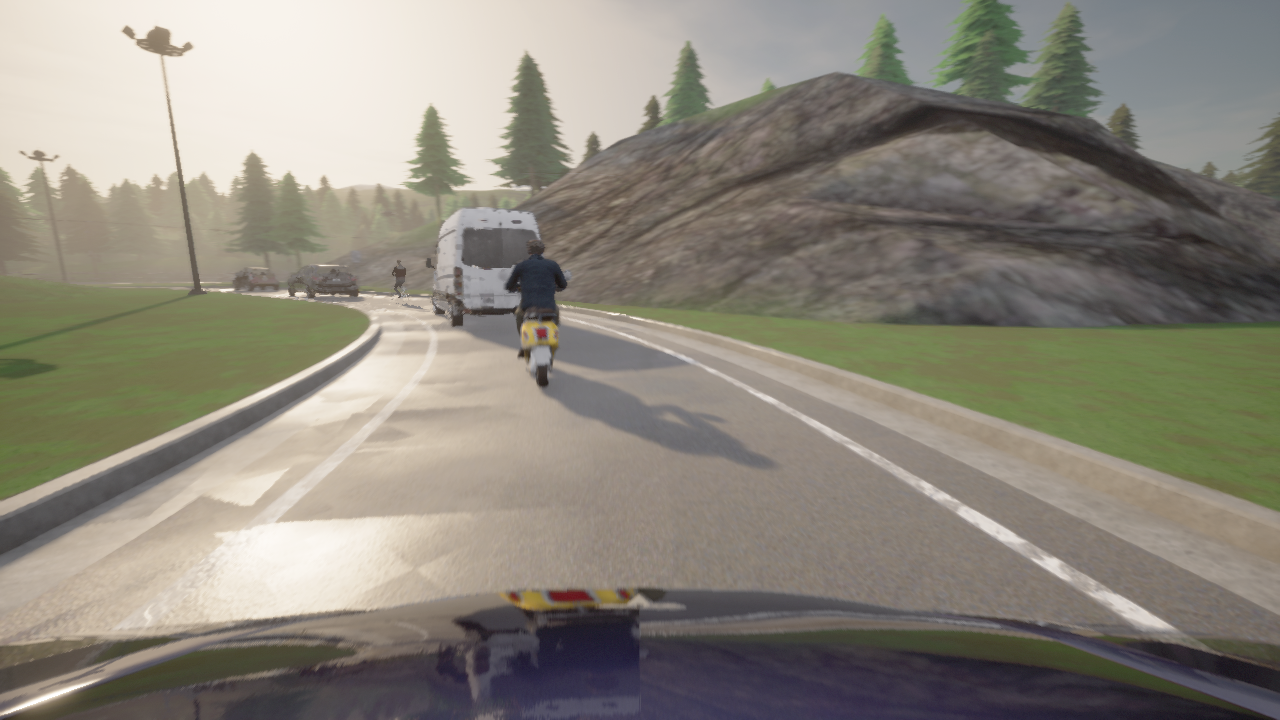cyclist: (0, 588, 1279, 719), (425, 208, 543, 327), (498, 270, 571, 387), (287, 264, 358, 298), (233, 267, 280, 291), (392, 278, 408, 304)
